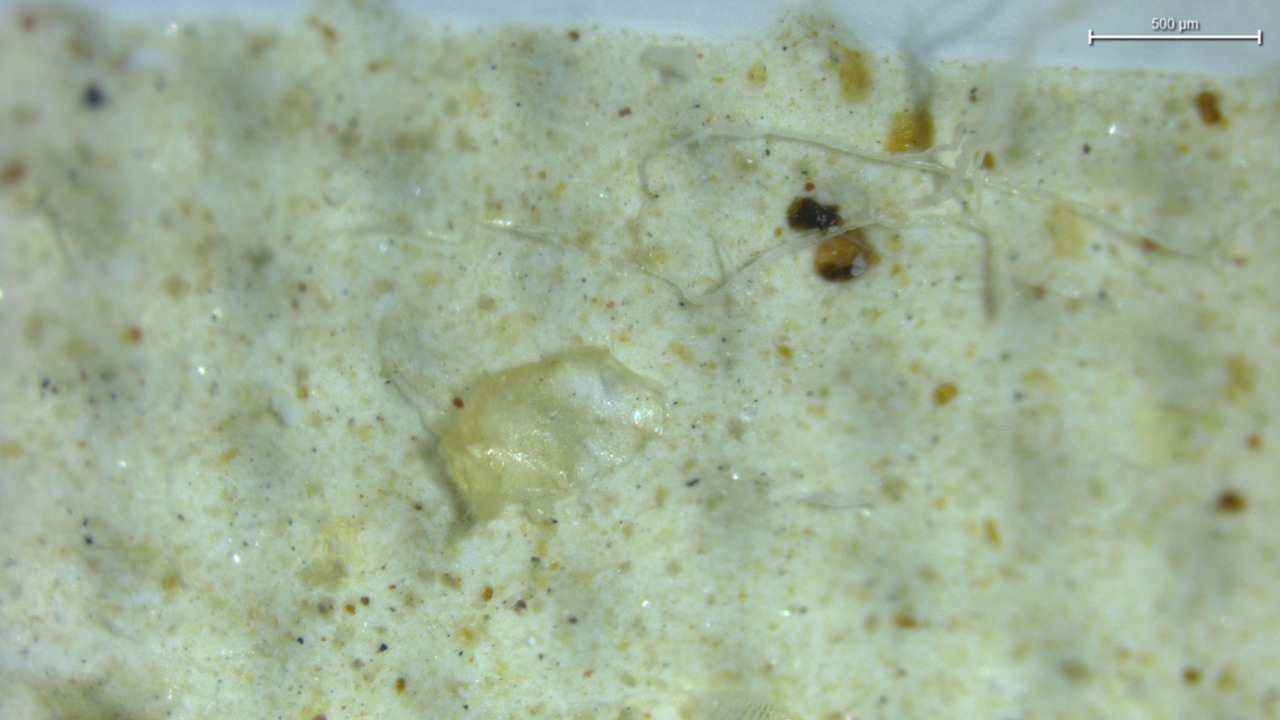microplastic_fragment: (439, 347, 665, 519)
